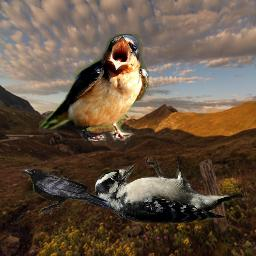Crow: (20, 168, 110, 214)
Swallow: (39, 34, 149, 141)
Woodpecker: (95, 156, 248, 224)
